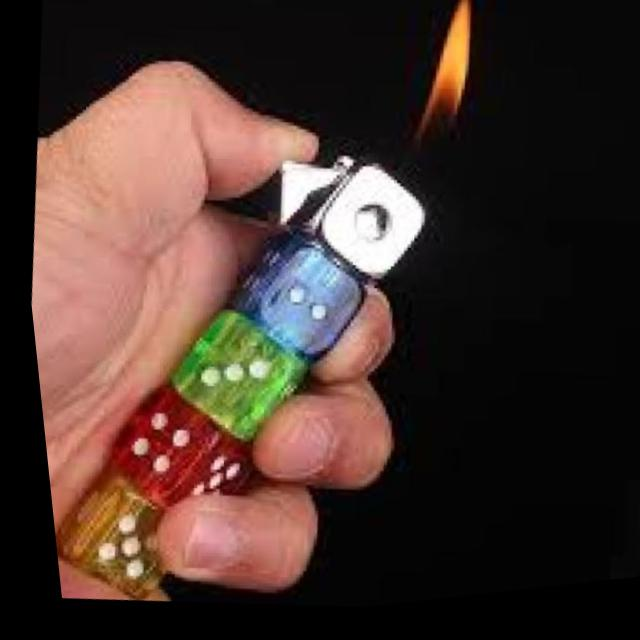Fire: (386, 0, 500, 211)
